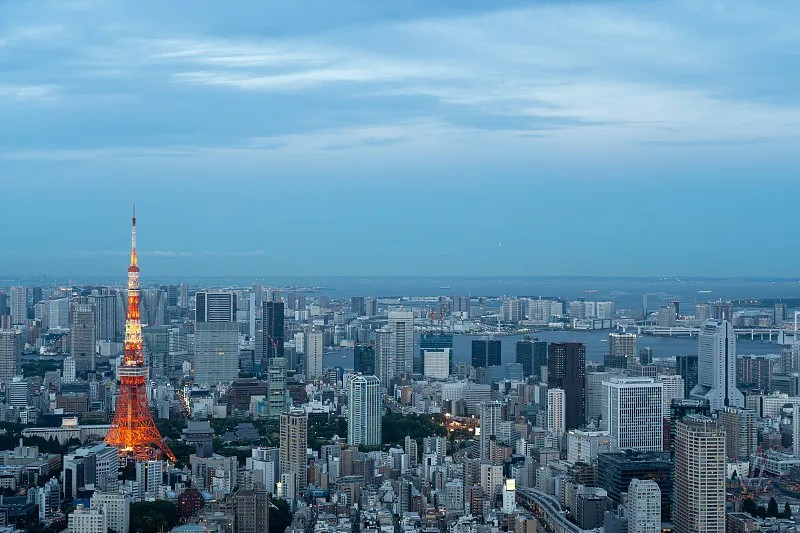Tokyo: (103, 194, 177, 465)
